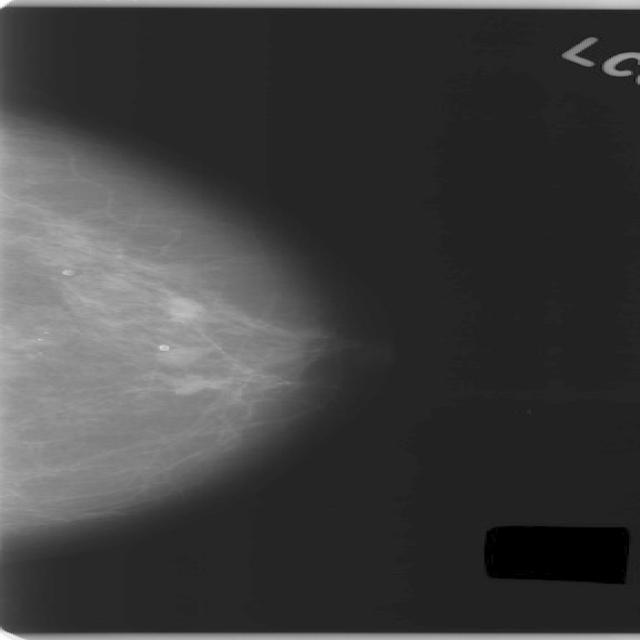tumour: (153, 344, 207, 366), (160, 292, 202, 320), (162, 375, 222, 392)
